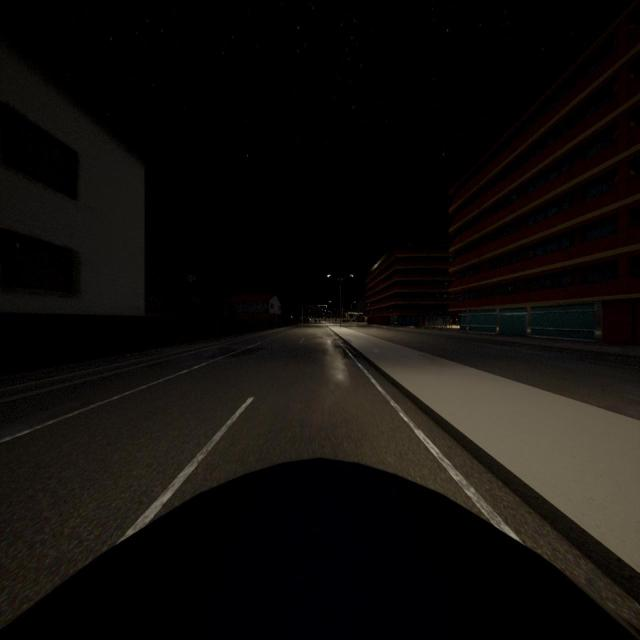Vehicle: (3, 460, 640, 640)
